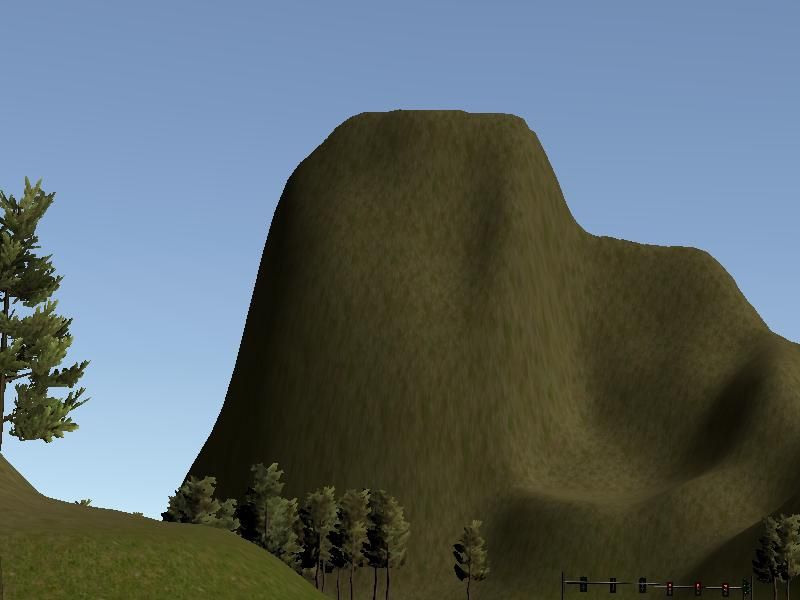Red: (694, 581, 700, 596), (667, 582, 673, 596), (722, 583, 728, 596)
